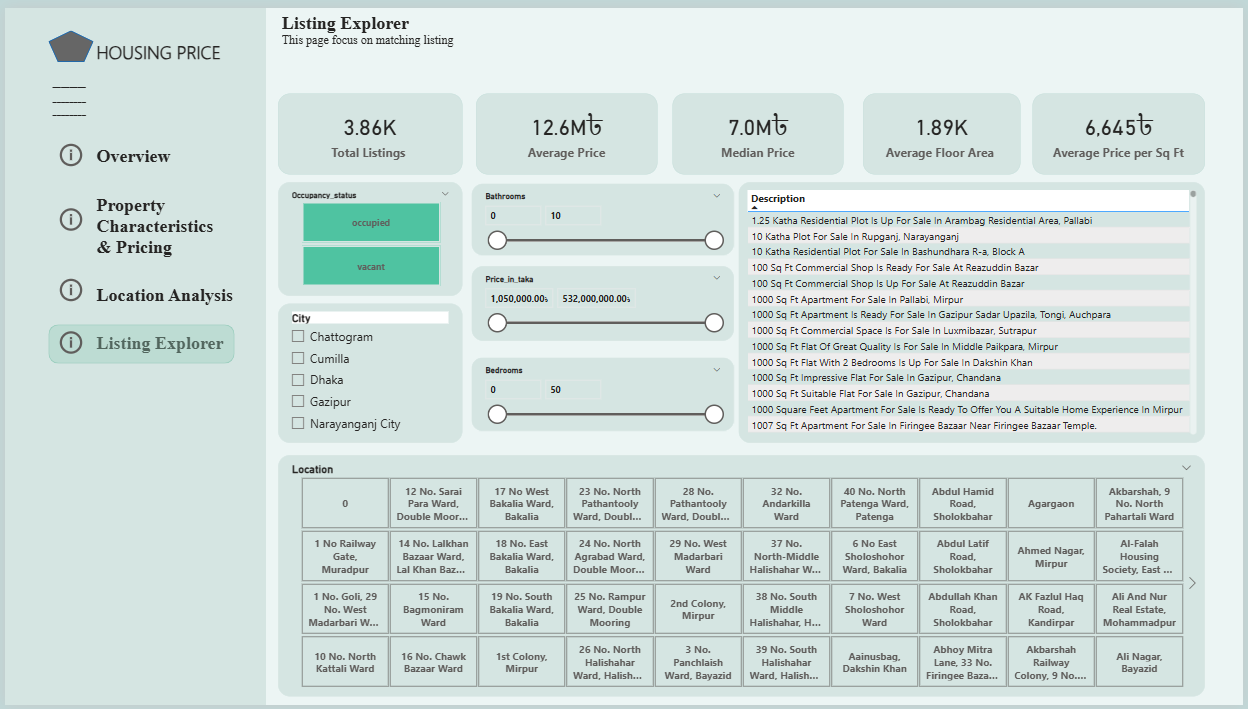

The dashboard page shown, as its layout file describes it:
{"tool":"powerbi","page":{"name":"Listing Explorer","canvas":[1650,930],"ordinal":3},"visuals":[{"type":"tableEx","fields":{"Values":["house pricing.Description "]},"box":[978,232,622,348],"z":0},{"type":"slicer","fields":{"Values":["house pricing.Price_in_taka"]},"box":[622,344,350,100],"z":1000},{"type":"slicer","fields":{"Values":["house pricing.City"]},"box":[364,394,246,186],"z":2000},{"type":"slicer","fields":{"Values":["house pricing.Location"]},"box":[364,596,1236,322],"z":3000},{"type":"slicer","fields":{"Values":["house pricing.Bathrooms"]},"box":[622,234,350,96],"z":4000},{"type":"slicer","fields":{"Values":["house pricing.Occupancy_status"]},"box":[364,232,246,152],"z":5000},{"type":"card","fields":{"Values":["Avg(house pricing.Price_in_taka)"]},"box":[628,114,242,108],"z":6000},{"type":"card","fields":{"Values":["Median(house pricing.Price_in_taka)"]},"box":[890,114,228,108],"z":7000},{"type":"card","fields":{"Values":["Avg(house pricing.Floor_area)"]},"box":[1144,114,210,108],"z":8000},{"type":"card","fields":{"Values":["house pricing.Price per Sq Ft"]},"box":[1370,114,230,108],"z":9000},{"type":"card","fields":{"Values":["CountNonNull(house pricing.Description )"]},"box":[364,114,246,108],"z":10000},{"type":"textbox","box":[0,0,348,930],"z":11000},{"type":"shape","box":[58,30,60,42],"z":12000},{"type":"actionButton","box":[68,356,50,40],"z":13000},{"type":"actionButton","box":[68,176,50,40],"z":14000},{"type":"shape","box":[58,422,248,52],"z":15000},{"type":"actionButton","box":[68,262,50,40],"z":16000},{"type":"actionButton","box":[68,426,50,40],"z":17000},{"type":"textbox","box":[364,0,462,98],"z":17001},{"type":"slicer","fields":{"Values":["house pricing.Bedrooms"]},"box":[622,466,350,98],"z":17002}]}

Visuals, with their boxes on the page's 1650x930 design canvas (x1, y1, x2, y2). These are canvas units, not pixel positions in the 1248x709 screenshot, which may show the page scaled, cropped or inside an application window:
tableEx - house pricing.Description : (x1=978, y1=232, x2=1600, y2=580)
slicer - house pricing.Price_in_taka: (x1=622, y1=344, x2=972, y2=444)
slicer - house pricing.City: (x1=364, y1=394, x2=610, y2=580)
slicer - house pricing.Location: (x1=364, y1=596, x2=1600, y2=918)
slicer - house pricing.Bathrooms: (x1=622, y1=234, x2=972, y2=330)
slicer - house pricing.Occupancy_status: (x1=364, y1=232, x2=610, y2=384)
card - Avg(house pricing.Price_in_taka): (x1=628, y1=114, x2=870, y2=222)
card - Median(house pricing.Price_in_taka): (x1=890, y1=114, x2=1118, y2=222)
card - Avg(house pricing.Floor_area): (x1=1144, y1=114, x2=1354, y2=222)
card - house pricing.Price per Sq Ft: (x1=1370, y1=114, x2=1600, y2=222)
card - CountNonNull(house pricing.Description ): (x1=364, y1=114, x2=610, y2=222)
textbox: (x1=0, y1=0, x2=348, y2=930)
shape: (x1=58, y1=30, x2=118, y2=72)
actionButton: (x1=68, y1=356, x2=118, y2=396)
actionButton: (x1=68, y1=176, x2=118, y2=216)
shape: (x1=58, y1=422, x2=306, y2=474)
actionButton: (x1=68, y1=262, x2=118, y2=302)
actionButton: (x1=68, y1=426, x2=118, y2=466)
textbox: (x1=364, y1=0, x2=826, y2=98)
slicer - house pricing.Bedrooms: (x1=622, y1=466, x2=972, y2=564)
